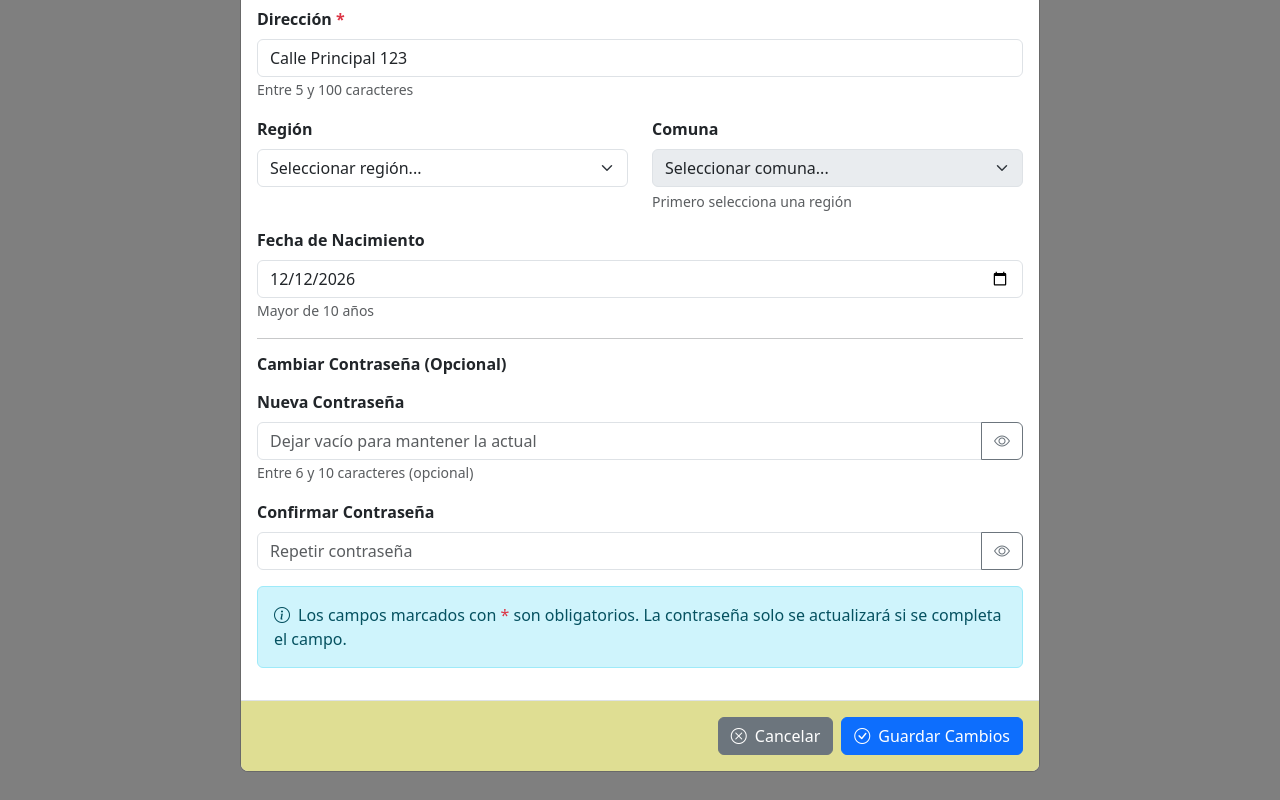
Test: PerfilModal › debería validar fecha de nacimiento futura
(page scrolled)
What coordinates should you click on to do the following:
click the button "Guardar Cambios"
I would click on:
 (932, 736)
Its box is x1=841 y1=717 x2=1023 y2=755.
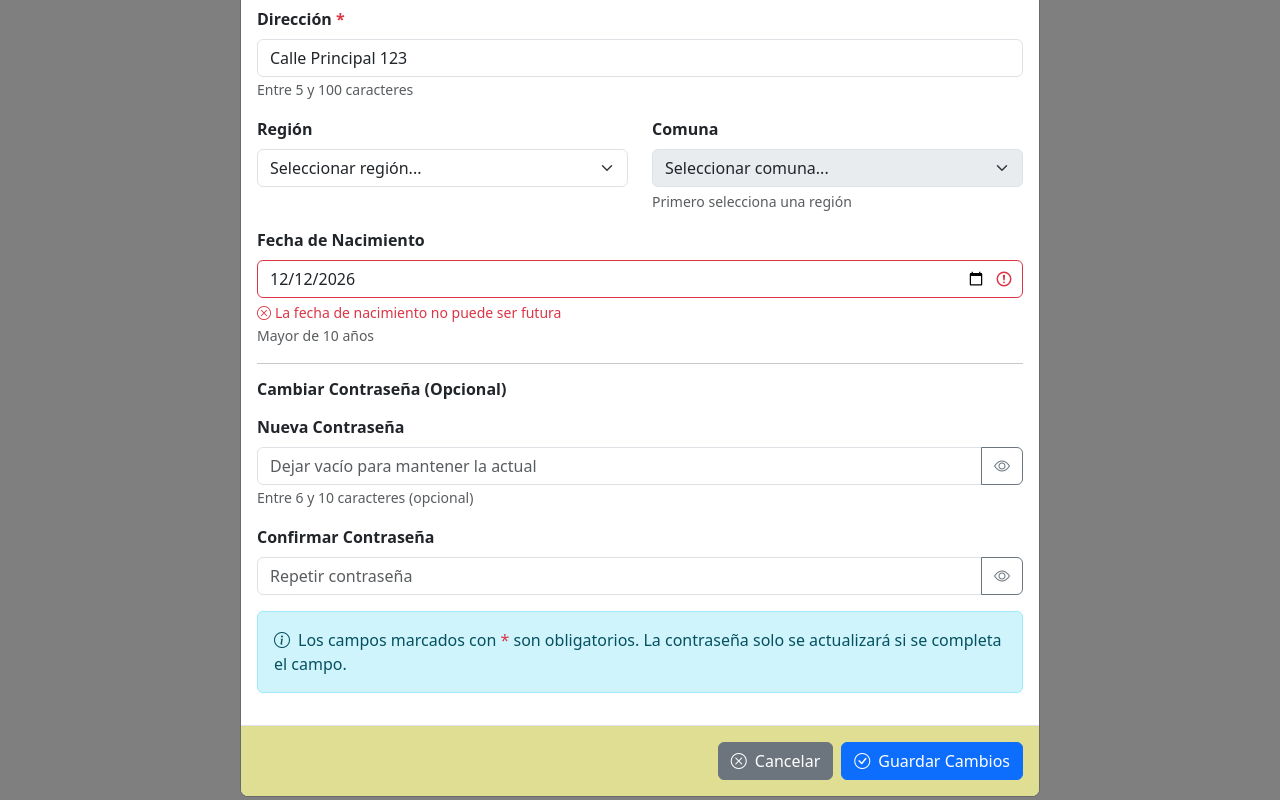
Now the text "La fecha de nacimiento no puede ser futura" is shown, box x1=257 y1=303 x2=561 y2=322
